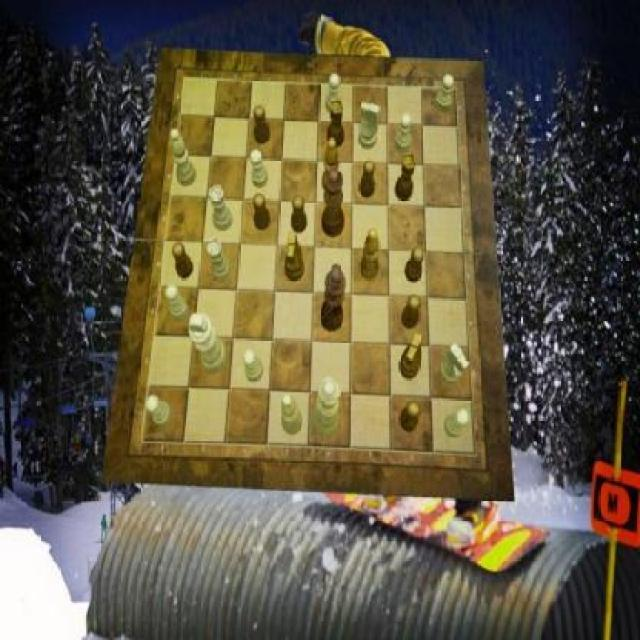bishop: (360, 228, 380, 280), (322, 138, 339, 194)
black-bishop: (320, 266, 346, 332)
black-king: (400, 332, 423, 378), (286, 231, 306, 280)
black-knight: (172, 242, 193, 279), (398, 401, 421, 434), (402, 295, 422, 330), (404, 248, 424, 282), (254, 106, 271, 145), (254, 192, 271, 230), (360, 160, 377, 198), (291, 195, 307, 233)
black-pawn: (323, 170, 346, 238)
black-queen: (395, 154, 418, 201), (328, 100, 345, 149)
black-rook: (172, 128, 197, 186), (281, 394, 304, 435)
white-bishop: (190, 314, 228, 374)
white-king: (440, 344, 470, 384), (358, 103, 379, 151)
white-knight: (146, 395, 172, 428), (166, 285, 189, 322), (445, 409, 469, 438), (436, 75, 454, 113), (243, 349, 263, 383), (251, 149, 268, 188), (396, 114, 412, 154), (325, 74, 340, 114)
white-pawn: (312, 378, 340, 438)
white-queen: (209, 186, 233, 232), (208, 237, 232, 282)
